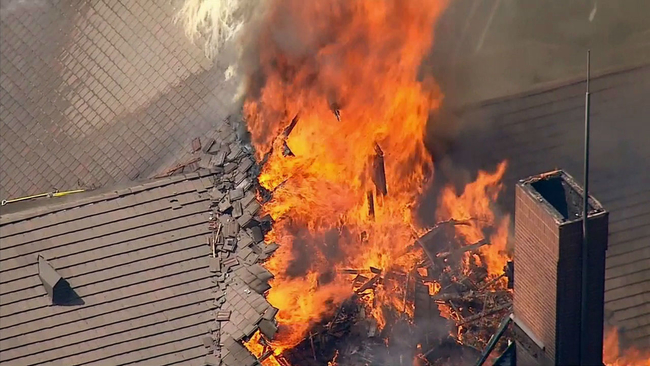fire: (246, 11, 536, 354)
